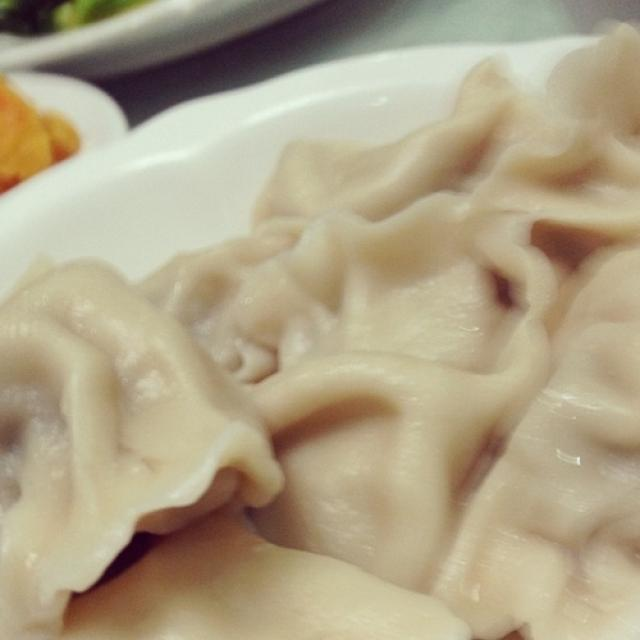带馅早点: (15, 15, 626, 599)
